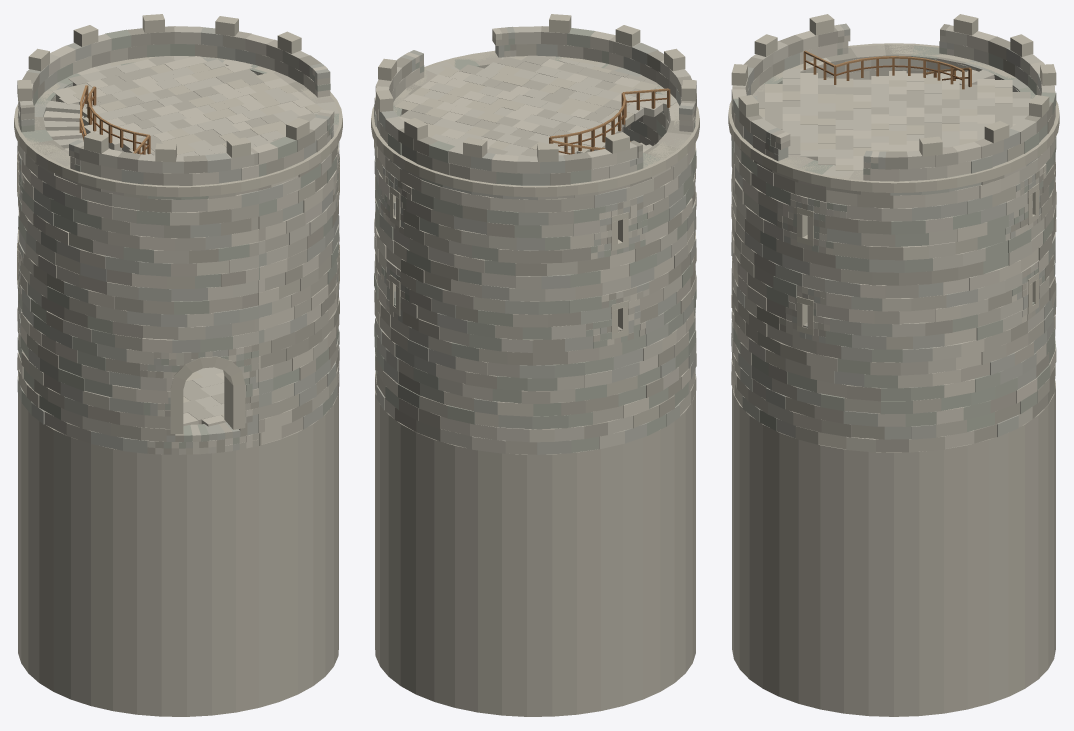
Rendered from Tower_V4_1.glb.
3 views of the same model, side by side, from view 1: azimuth 30°, elevation 25°; view 2: azimuth 150°, elevation 25°; view 3: azimuth 270°, elevation 25° (orthographic).
Visible parts, largest first — view 1: Tower_V4_1; view 2: Tower_V4_1; view 3: Tower_V4_1.
Part boxes in pixels (x1=…): Tower_V4_1: x1=14, y1=14, x2=342, y2=716; Tower_V4_1: x1=371, y1=14, x2=699, y2=716; Tower_V4_1: x1=728, y1=14, x2=1059, y2=716.
Bounding box in the file's own units: 16.84 × 32.07 × 16.84.
